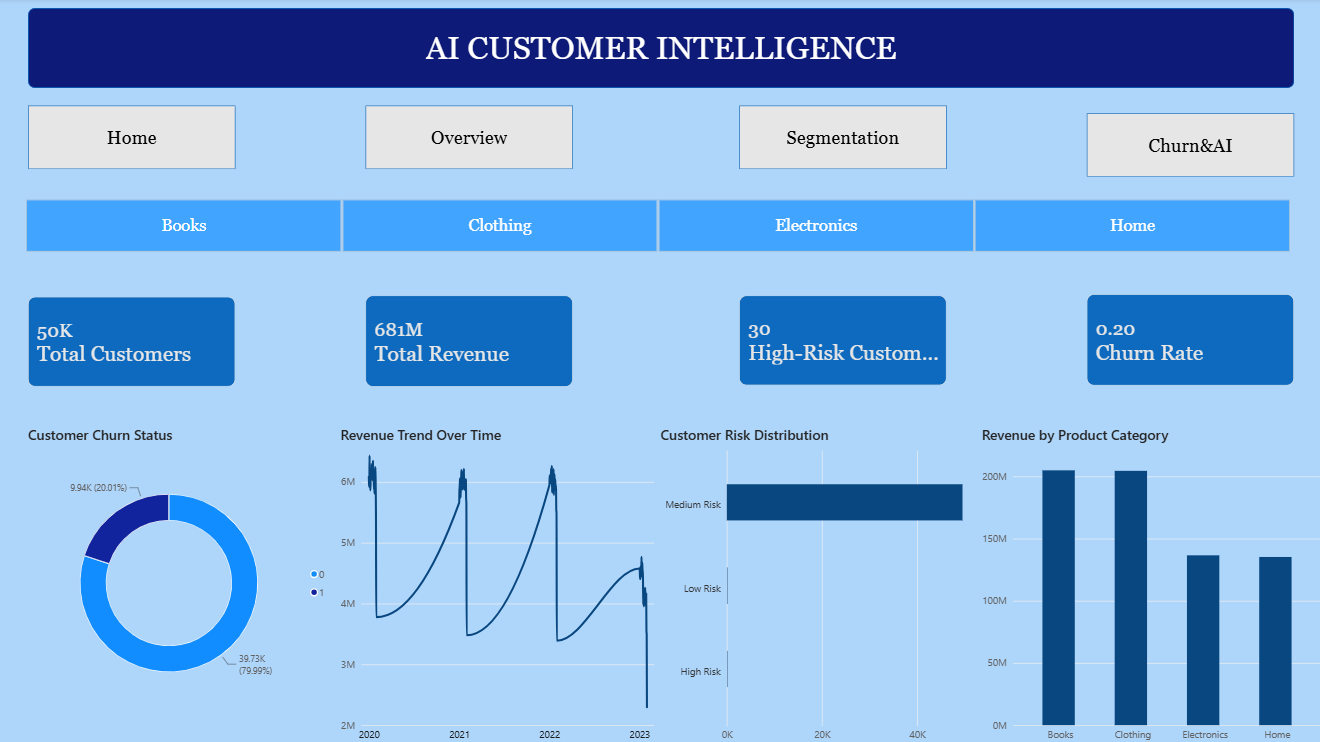

This screenshot's page, from the dashboard's own definition file:
{"tool":"powerbi","page":{"name":"Overview","canvas":[1920,1080],"ordinal":1},"visuals":[{"type":"cardVisual","fields":{"Data":["customer_intelligence.Total Customers"]},"box":[43.4,432.5,300.4,130.3],"z":0},{"type":"cardVisual","fields":{"Data":["customer_shopping_data_clean.Total Revenue"]},"box":[532,430.7,300.4,132.1],"z":1000},{"type":"cardVisual","fields":{"Data":["customer_intelligence.Churn Rate"]},"box":[1576.2,428.9,300.4,132.1],"z":2000},{"type":"cardVisual","fields":{"Data":["customer_intelligence.High-Risk Customers"]},"box":[1073.1,430.7,300.4,130.3],"z":3000},{"type":"shape","box":[43.4,14.5,1833.2,115.8],"z":4000},{"type":"shape","box":[43.4,155.6,300.4,92.3],"z":5000},{"type":"shape","box":[1073.1,155.6,300.4,92.3],"z":5001},{"type":"shape","box":[532,155.6,300.4,92.3],"z":5002},{"type":"shape","box":[1576.2,166.5,300.4,92.3],"z":5003},{"type":"slicer","fields":{"Values":["customer_shopping_data_clean.product_category"]},"box":[19.9,289.5,1869.4,79.6],"z":5004},{"type":"donutChart","title":"Customer Churn Status","fields":{"Category":["customer_intelligence.churn"],"Y":["CountNonNull(customer_intelligence.customer_id)"]},"box":[43.4,618.9,437.9,427.1],"z":5005},{"type":"lineChart","title":"Revenue Trend Over Time","fields":{"Y":["customer_shopping_data_clean.Total Revenue"],"Category":["customer_shopping_data_clean.purchase_date.Variation.Date Hierarchy.Year","customer_shopping_data_clean.purchase_date.Variation.Date Hierarchy.Day"]},"box":[495.8,618.9,459.7,461.5],"z":5006},{"type":"clusteredBarChart","title":"Customer Risk Distribution","fields":{"Y":["CountNonNull(customer_intelligence.customer_id)"],"Category":["customer_intelligence.churn_risk"]},"box":[959.1,618.9,452.4,461.5],"z":5007},{"type":"clusteredColumnChart","title":"Revenue by Product Category","fields":{"Category":["customer_shopping_data_clean.product_category"],"Y":["customer_shopping_data_clean.Total Revenue"]},"box":[1424.2,618.9,495.8,461.5],"z":5008}]}

Visuals, with their boxes in screenshot pixels (x1, y1, x2, y2), scaled from the page's 1920x1080 canvas onto the 1320x742 screenshot:
cardVisual - customer_intelligence.Total Customers: l=30, t=297, r=236, b=387
cardVisual - customer_shopping_data_clean.Total Revenue: l=366, t=296, r=572, b=387
cardVisual - customer_intelligence.Churn Rate: l=1084, t=295, r=1290, b=385
cardVisual - customer_intelligence.High-Risk Customers: l=738, t=296, r=944, b=385
shape: l=30, t=10, r=1290, b=90
shape: l=30, t=107, r=236, b=170
shape: l=738, t=107, r=944, b=170
shape: l=366, t=107, r=572, b=170
shape: l=1084, t=114, r=1290, b=178
slicer - customer_shopping_data_clean.product_category: l=14, t=199, r=1299, b=254
"Customer Churn Status" donutChart: l=30, t=425, r=331, b=719
"Revenue Trend Over Time" lineChart: l=341, t=425, r=657, b=741
"Customer Risk Distribution" clusteredBarChart: l=659, t=425, r=970, b=741
"Revenue by Product Category" clusteredColumnChart: l=979, t=425, r=1319, b=741
